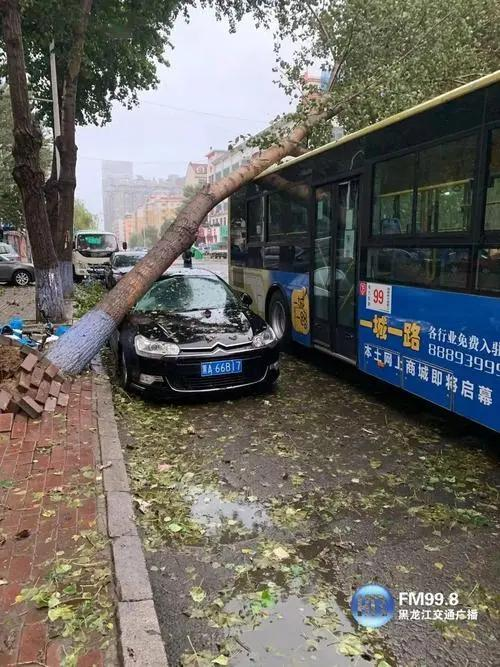Downstairs: (45, 1, 497, 389)
